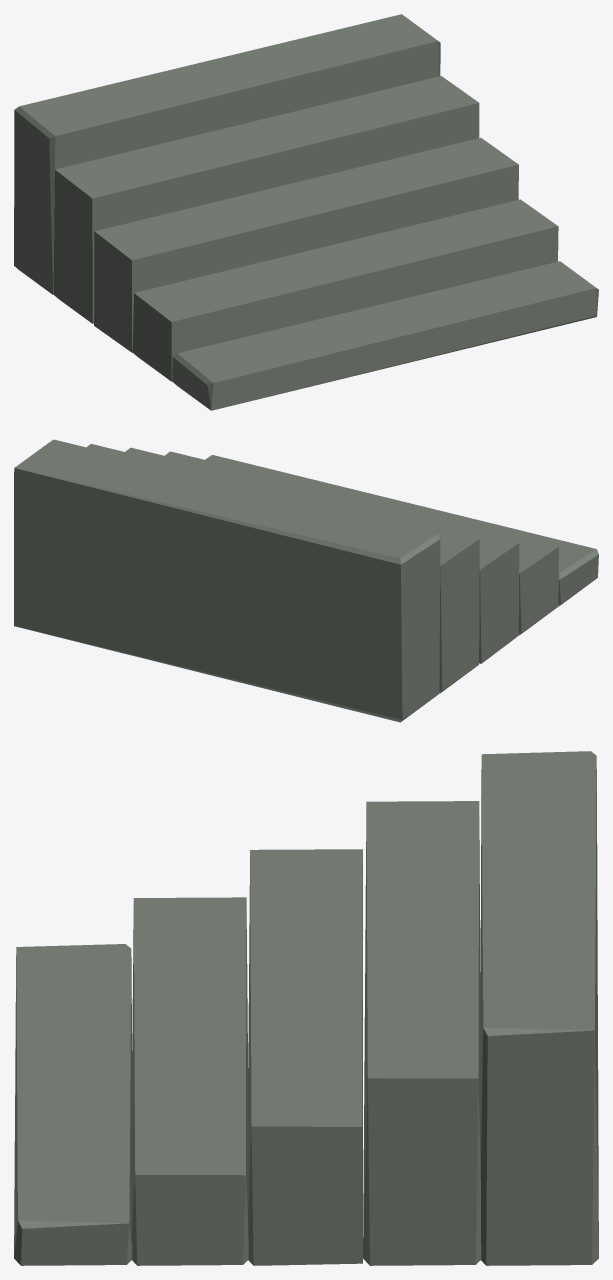
The model's file is Escada_de_pedra_LOD1.fbx.
3 views of the same model, one above another, from view 1: azimuth 30°, elevation 25°; view 2: azimuth 150°, elevation 25°; view 3: azimuth 270°, elevation 25° (orthographic). The views are drawn at different scales.
Visible parts, largest first — view 1: Escada_de_pedra_LOD1; view 2: Escada_de_pedra_LOD1; view 3: Escada_de_pedra_LOD1.
Part boxes in pixels (<box>): Escada_de_pedra_LOD1: <box>14,14,598,410</box>; Escada_de_pedra_LOD1: <box>14,439,598,722</box>; Escada_de_pedra_LOD1: <box>14,751,598,1265</box>.
Size of the model in its own units: 200 by 80 by 176.
1 material, 1 textured.
